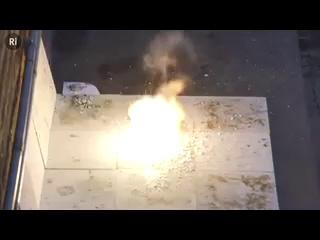Fire: (123, 91, 177, 173)
